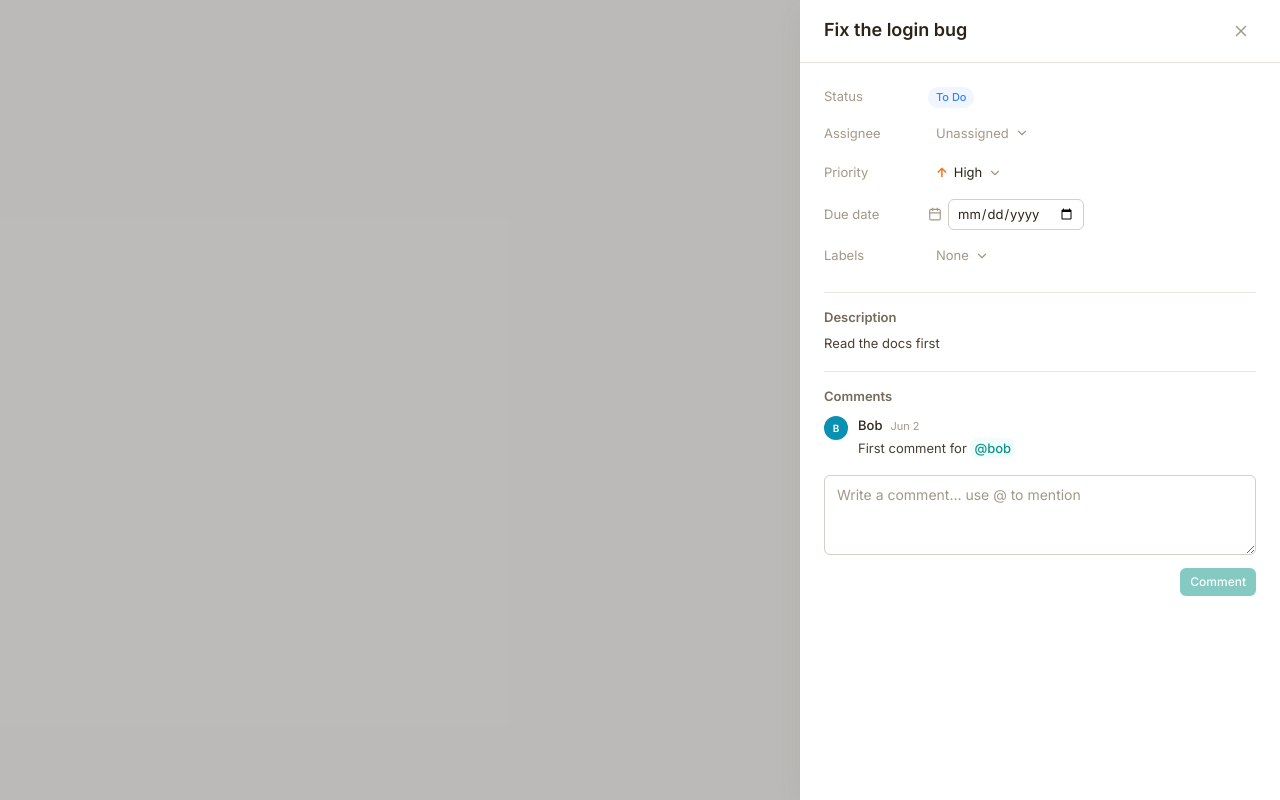
TaskDetailPanel › commits an edited title
Step 1. Click the button "Fix the login bug" → point(896, 30), box left=824, top=16, right=967, bottom=43
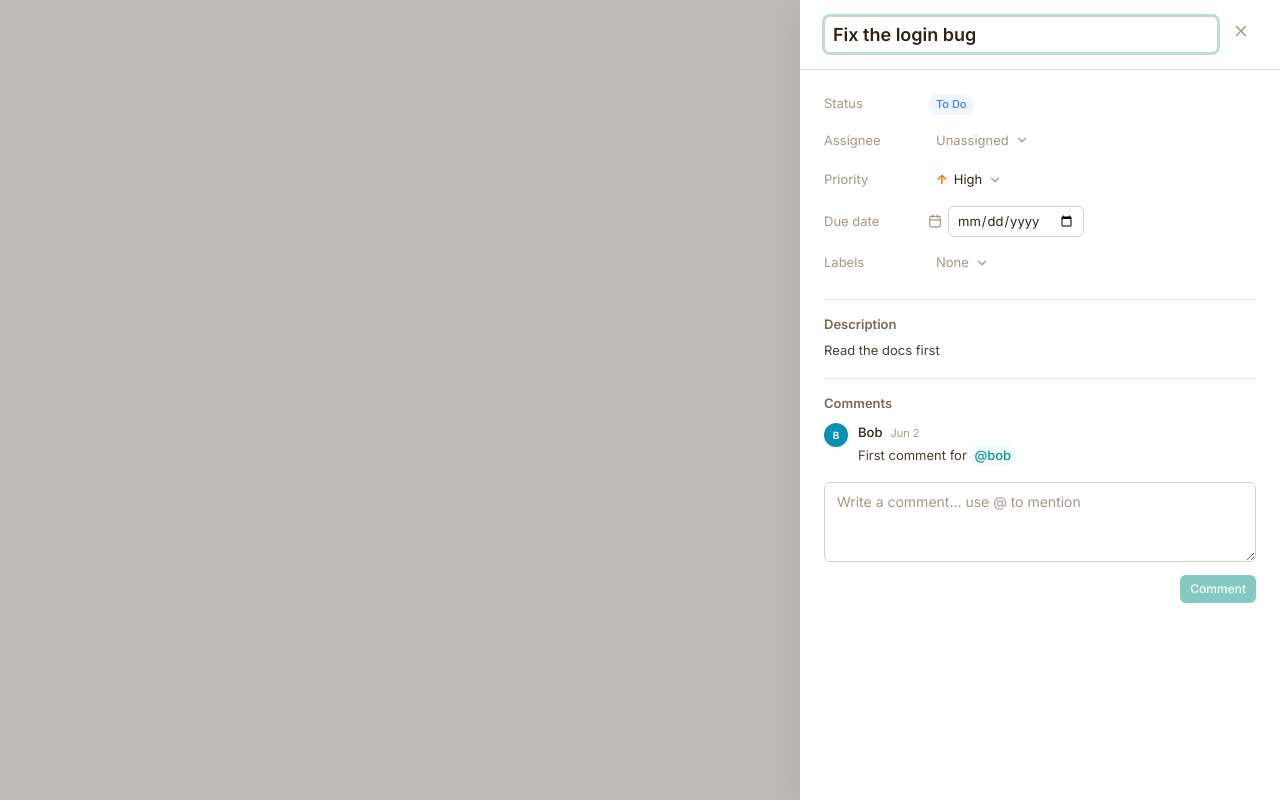
Step 2. Replace the text in the field named "Title" with "New title" → point(1021, 34), box left=824, top=16, right=1218, bottom=53
Then press Enter
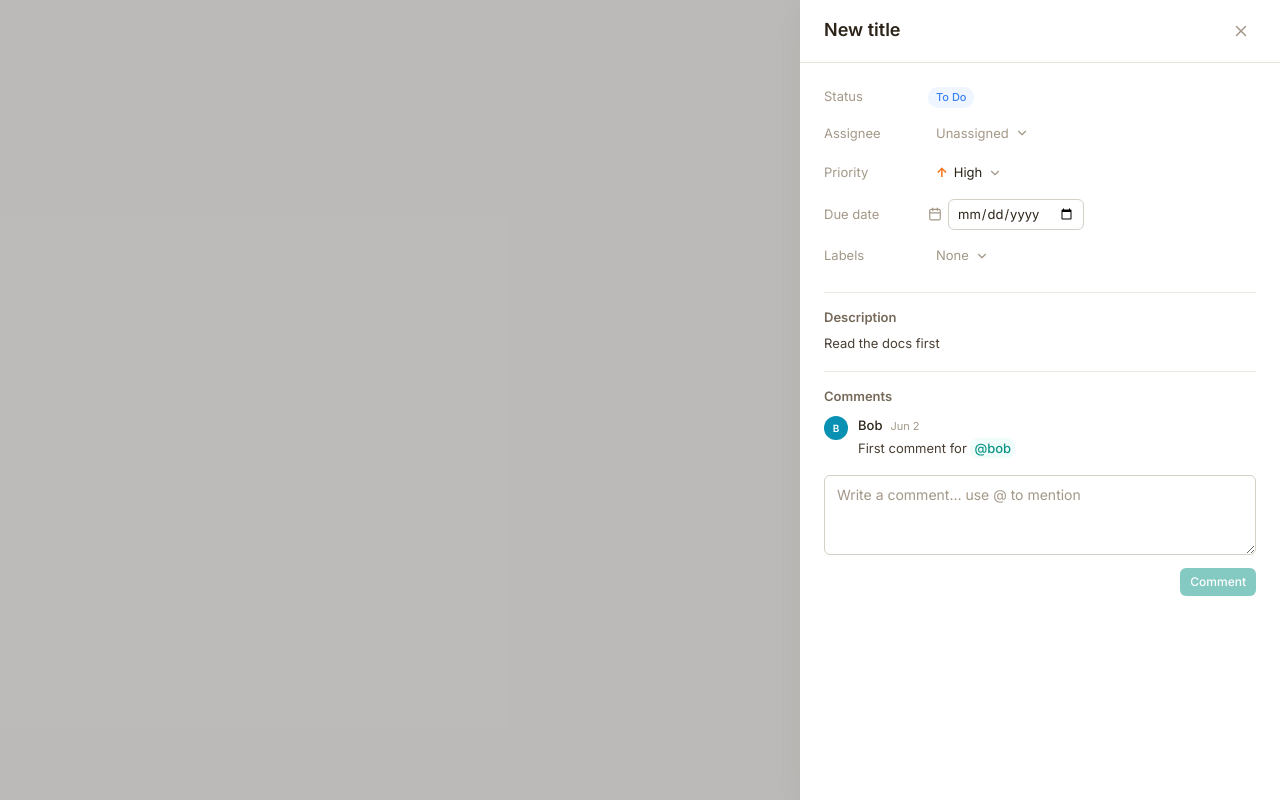
Result: the button "New title" is shown at left=824, top=16, right=900, bottom=43
